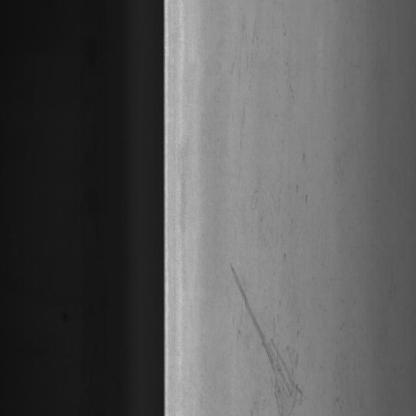water_spot: (228, 254, 315, 414)
